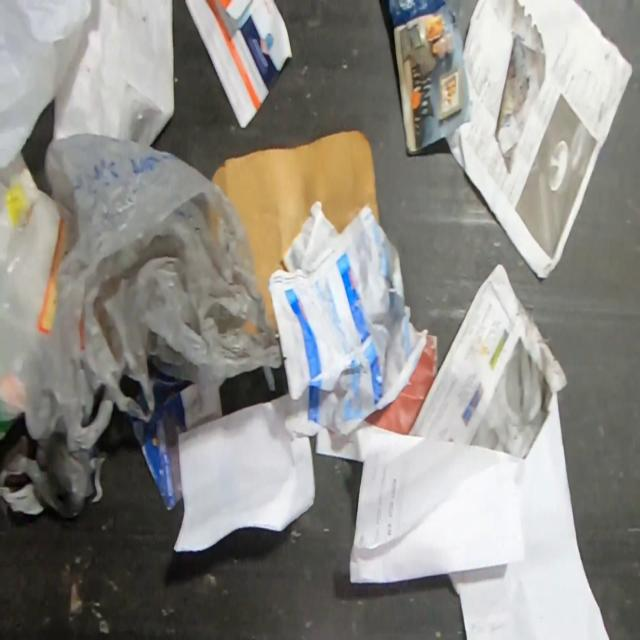cardboard: (210, 126, 381, 330)
soft_plastic: (0, 131, 284, 520), (0, 176, 75, 427)
